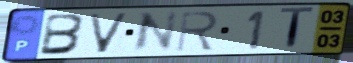1: (246, 9, 267, 51)
B: (37, 13, 88, 57)
N: (129, 9, 181, 55)
R: (174, 10, 221, 53)
T: (278, 5, 317, 53)
V: (86, 12, 132, 55)
